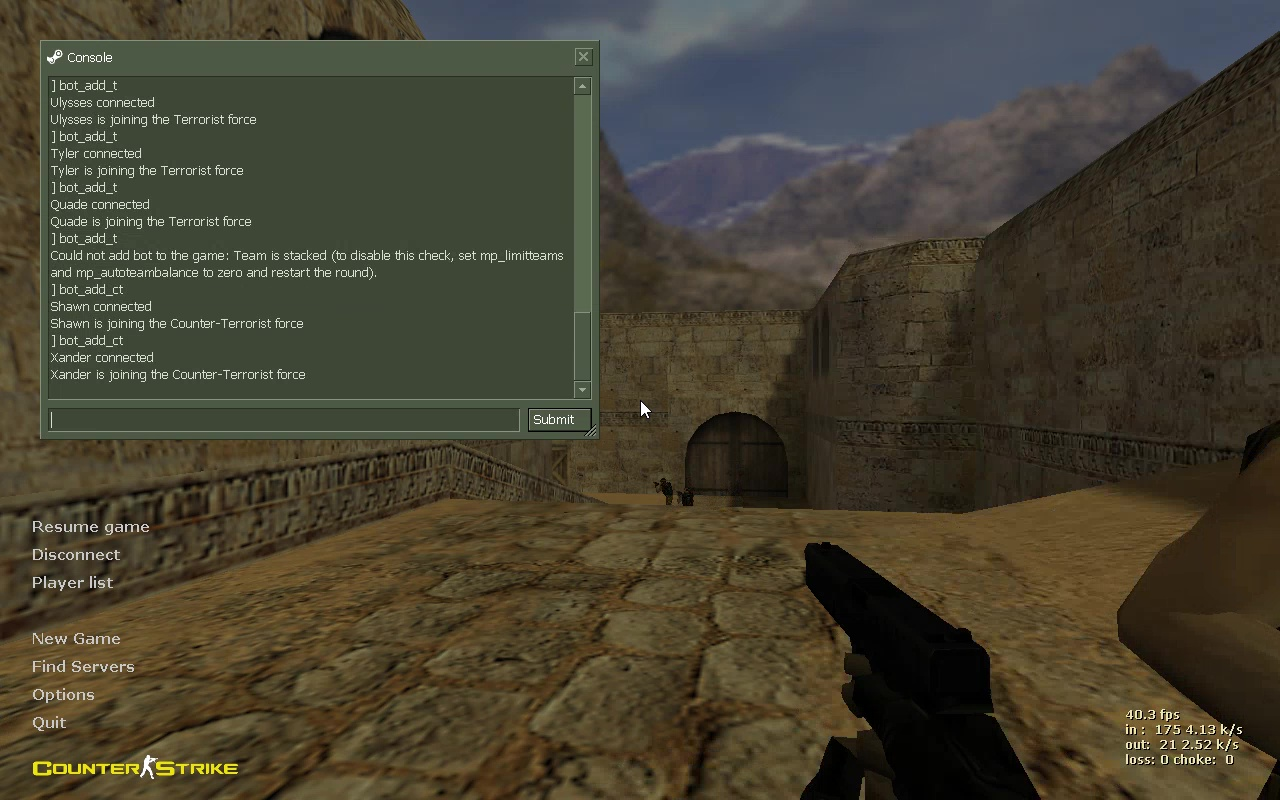terr1: (654, 479, 674, 501)
